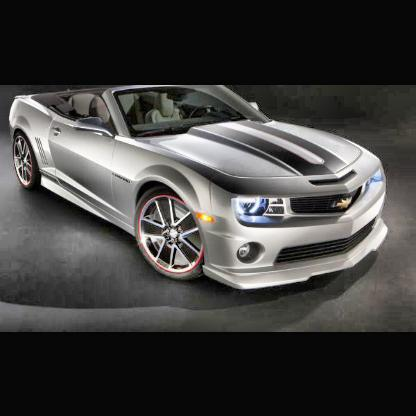Chevrolet Camaro Convertible 2012: (8, 86, 391, 297)
